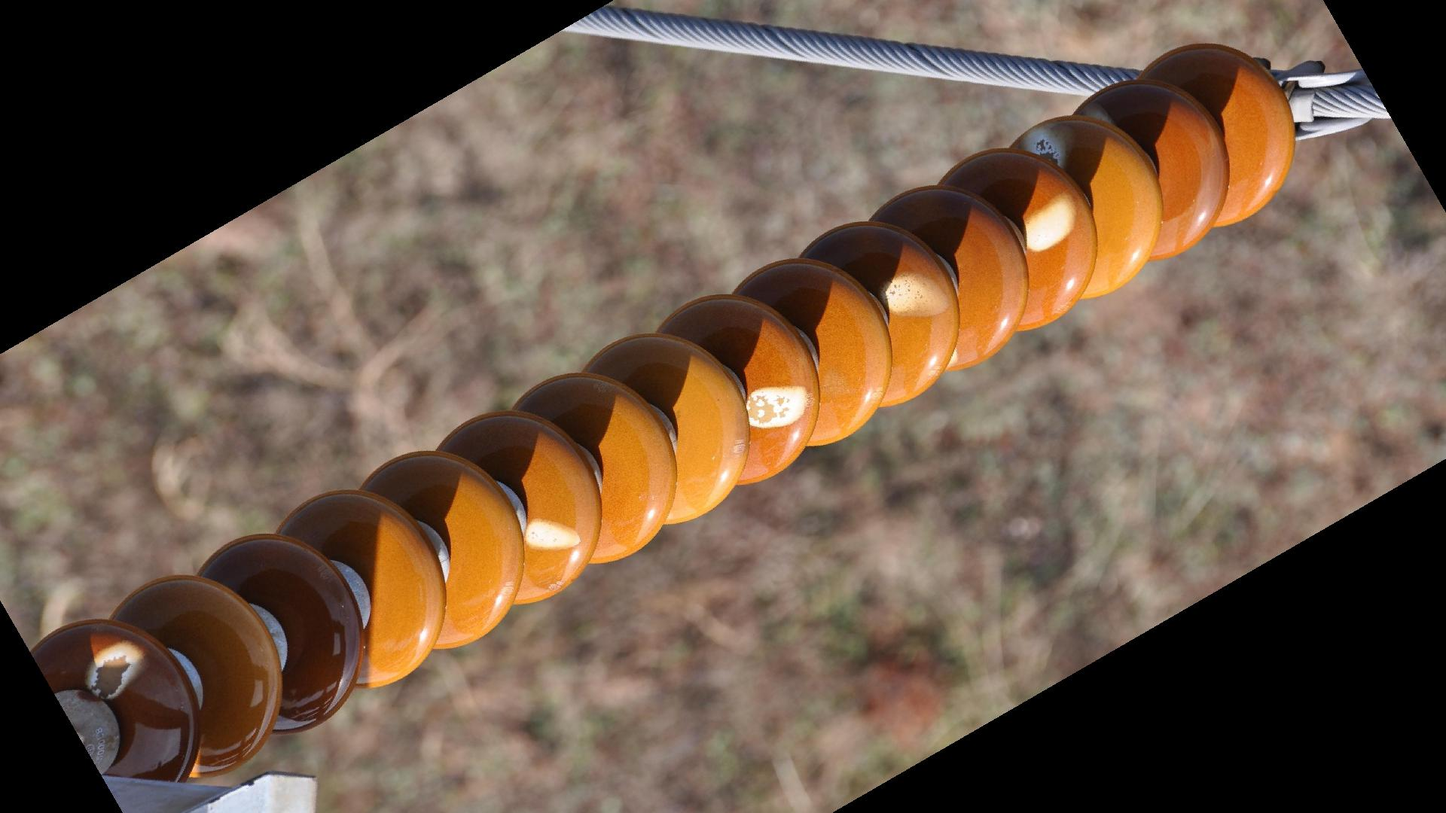insulator: (26, 34, 1302, 787)
insulator_flashover: (81, 640, 147, 703), (874, 269, 950, 321), (1020, 190, 1078, 254), (743, 381, 812, 431), (1015, 123, 1069, 170), (521, 514, 583, 553)
